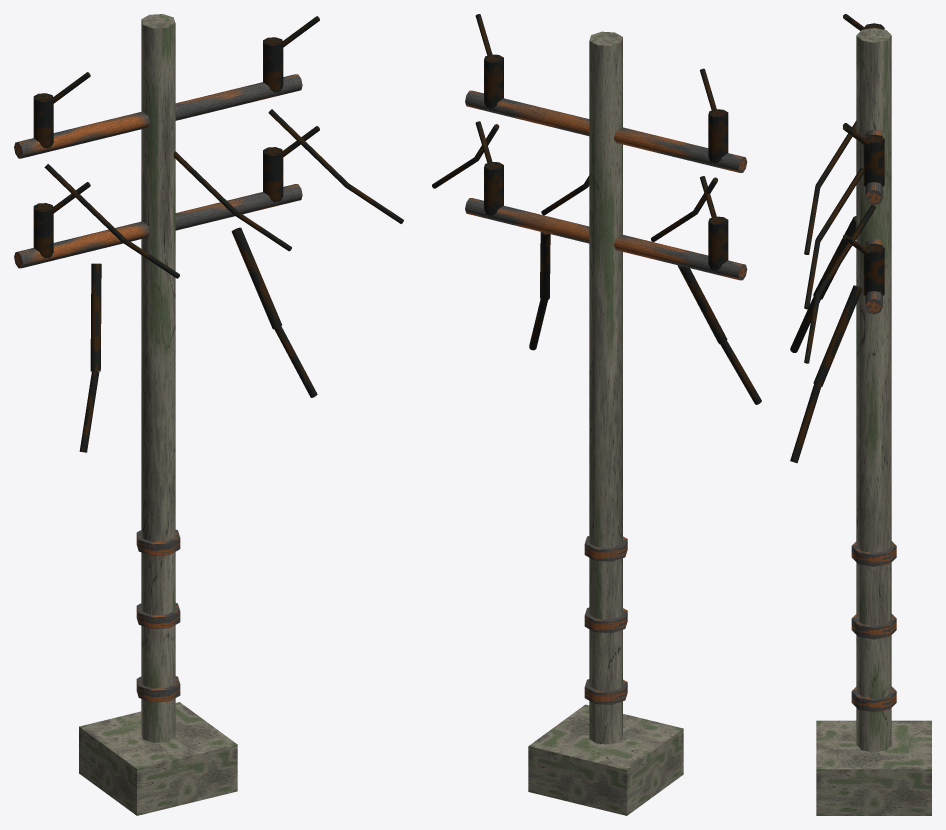
File: utilityPole.glb
3 views of the same model, side by side, from view 1: azimuth 30°, elevation 25°; view 2: azimuth 150°, elevation 25°; view 3: azimuth 270°, elevation 25° (orthographic). The views are drawn at different scales.
Parts seen in each view (by area): view 1: b3_prop_utility_pole_0; view 2: b3_prop_utility_pole_0; view 3: b3_prop_utility_pole_0.
Boxes of the visible parts, x1,y1,x2,y2 form: b3_prop_utility_pole_0: [14, 14, 403, 815]; b3_prop_utility_pole_0: [432, 14, 761, 815]; b3_prop_utility_pole_0: [790, 14, 931, 815].
Bounding box in the file's own units: 2.51 × 5.2 × 0.8833.
Materials: 3 (3 with a texture image).
